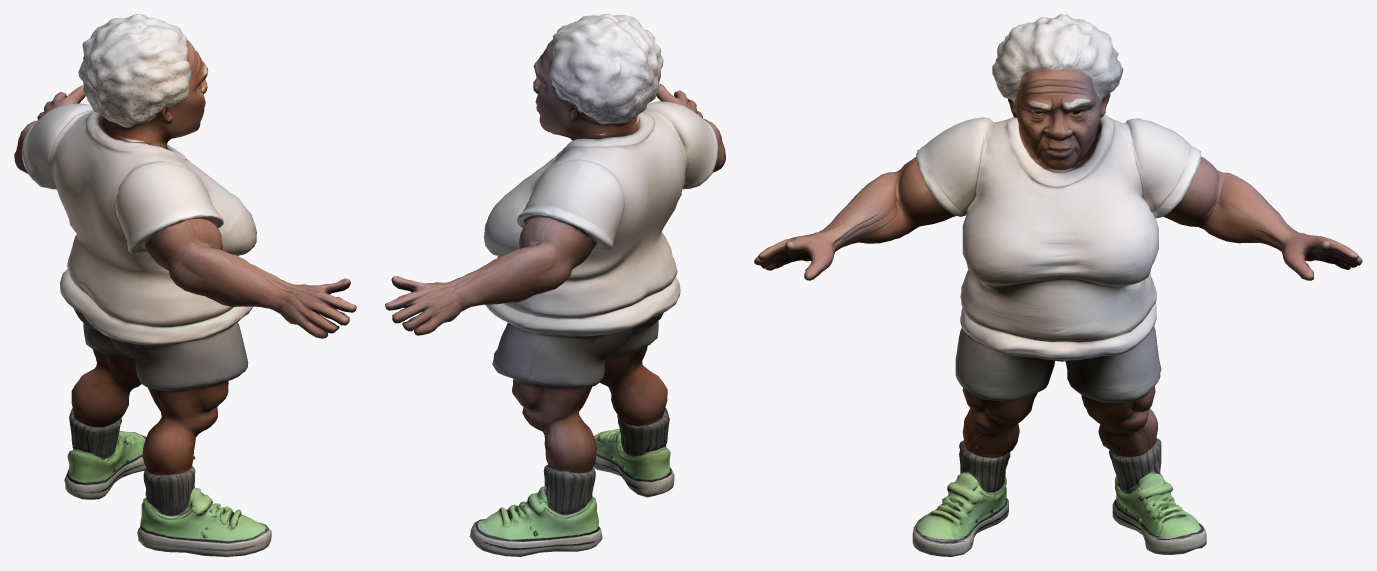
3 views of the same model, side by side, from view 1: azimuth 30°, elevation 25°; view 2: azimuth 150°, elevation 25°; view 3: azimuth 270°, elevation 25° (orthographic). The views are drawn at different scales.
Parts seen in each view (by area): view 1: tripo_node_af846c95; view 2: tripo_node_af846c95; view 3: tripo_node_af846c95.
Boxes of the visible parts, <box> form: tripo_node_af846c95: <box>14,14,356,556</box>; tripo_node_af846c95: <box>385,14,725,556</box>; tripo_node_af846c95: <box>754,14,1362,556</box>.
Size of the model in its own units: 0.3053 by 0.9178 by 1.
Materials: 1 (1 with a texture image).
